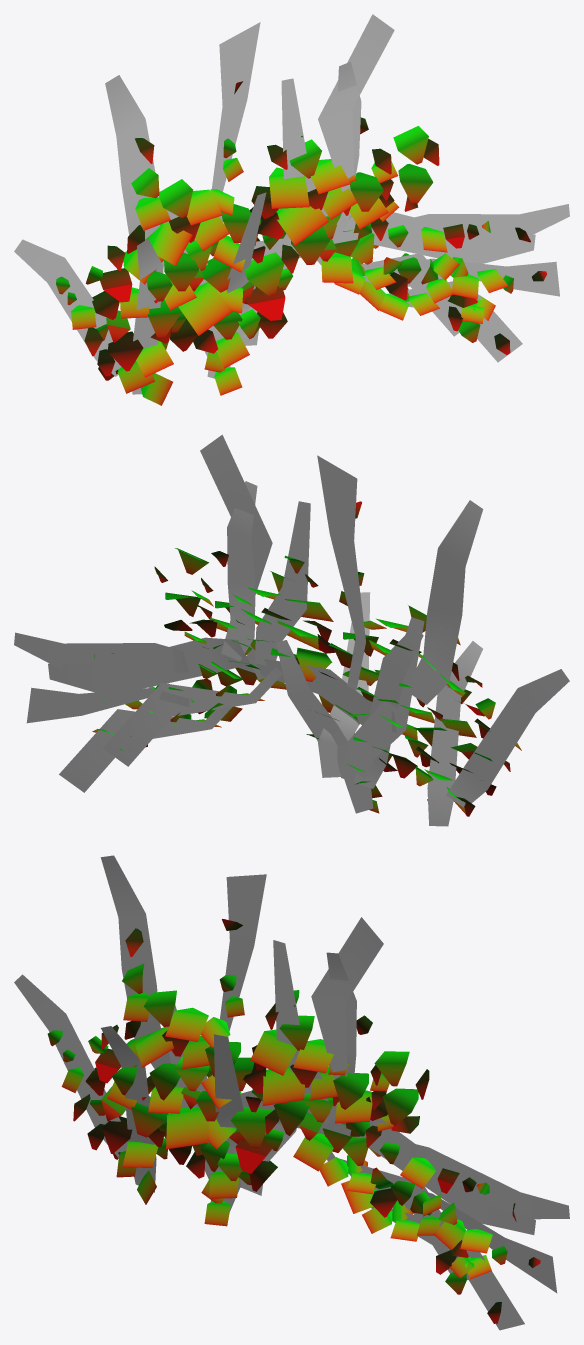
The model's file is Var4_LOD2.fbx.
3 views of the same model, one above another, from view 1: azimuth 30°, elevation 25°; view 2: azimuth 150°, elevation 25°; view 3: azimuth 330°, elevation 25° (orthographic).
Visible parts, largest first — view 1: _72a0_Var4_LOD2; view 2: _72a0_Var4_LOD2; view 3: _72a0_Var4_LOD2.
Boxes of the visible parts, x1,y1,x2,y2 form: _72a0_Var4_LOD2: (14, 14, 569, 405); _72a0_Var4_LOD2: (14, 434, 569, 826); _72a0_Var4_LOD2: (14, 855, 569, 1330).
Size of the model in its own units: 97.06 by 66.16 by 9.21.
